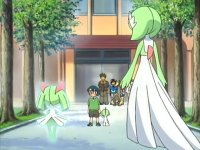gardevoir: (121, 7, 199, 150)
